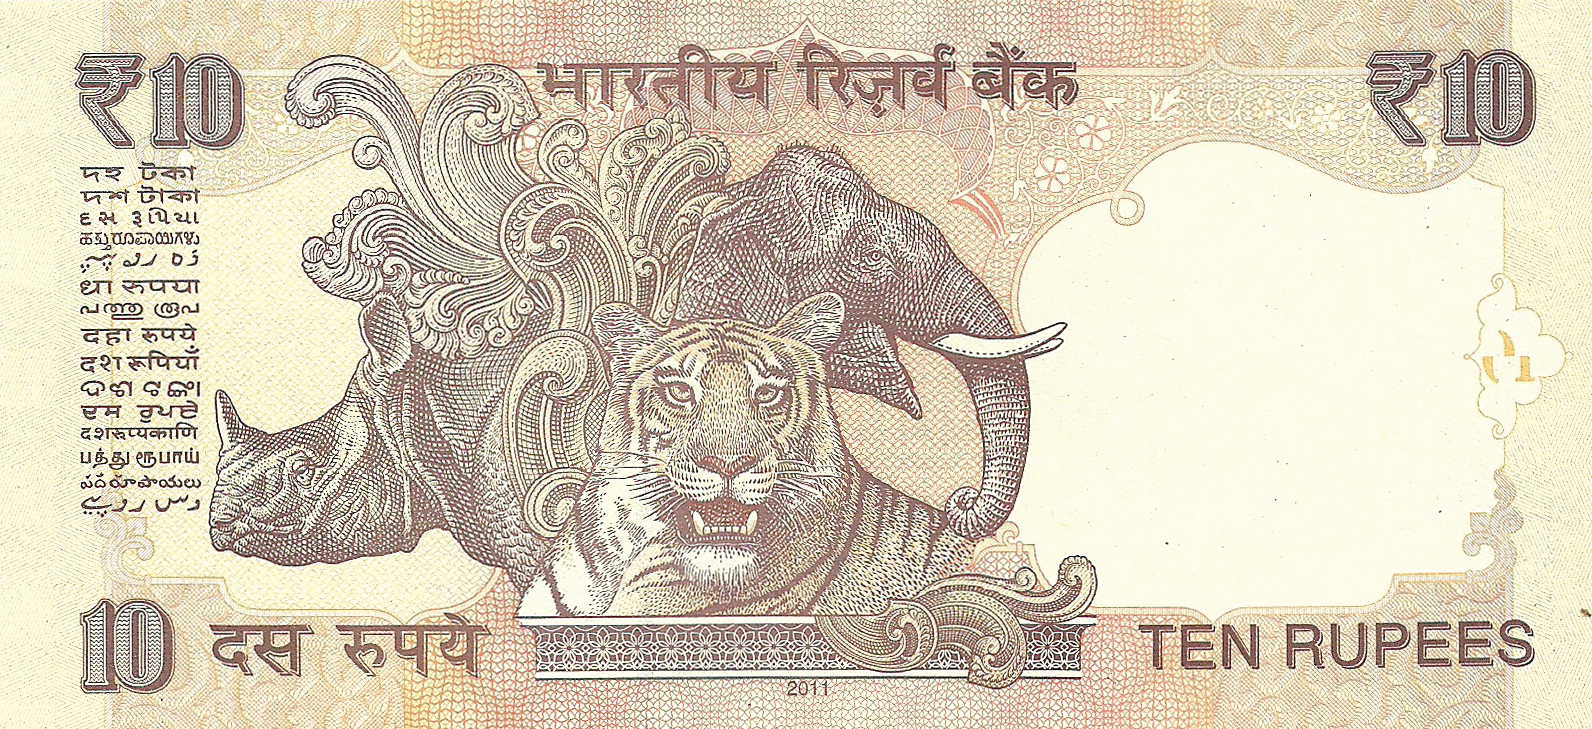ten_rupees_note: (3, 2, 1592, 729)
